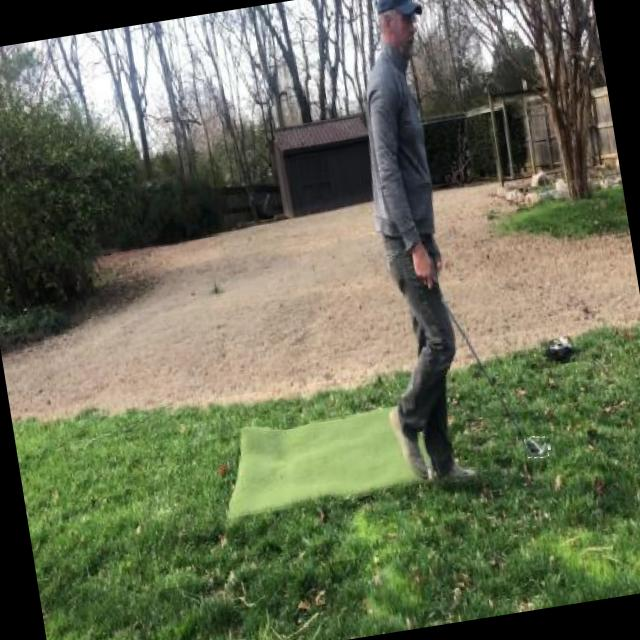club head: (524, 435, 552, 460)
